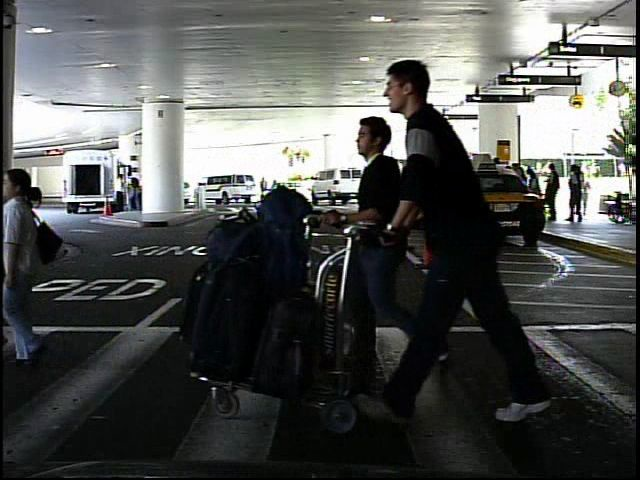person: (391, 47, 543, 425), (334, 116, 422, 389), (580, 171, 599, 219), (114, 173, 127, 212)
